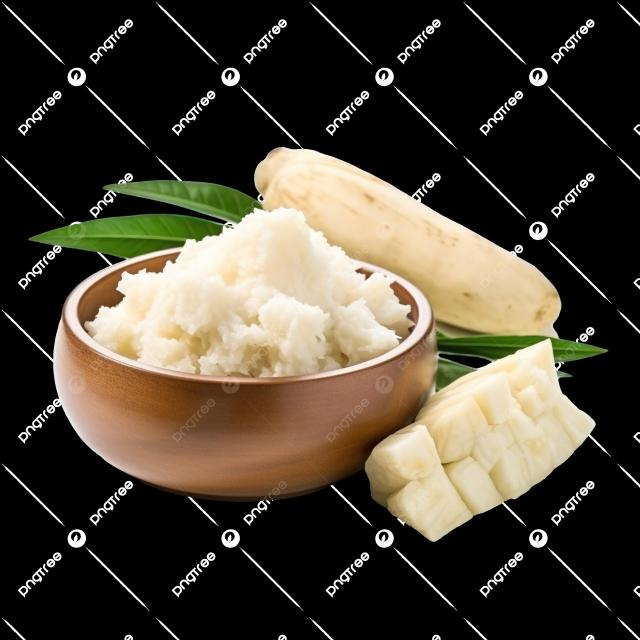arroz: (69, 213, 405, 389)
